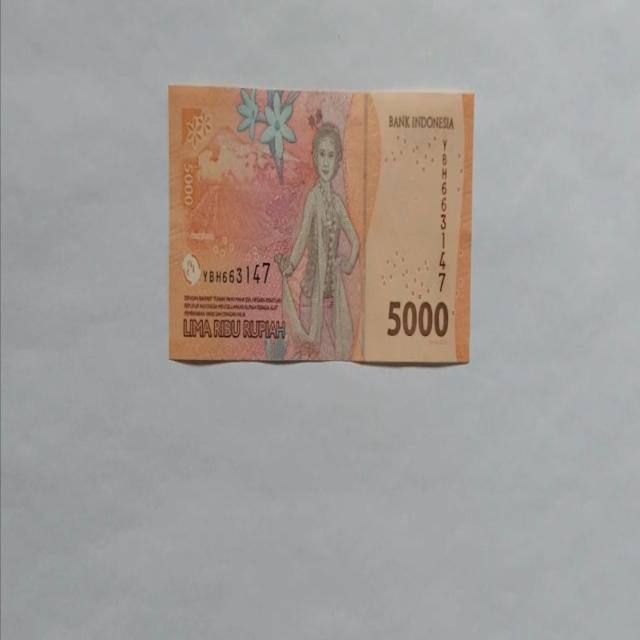lima ribu rupiah: (168, 84, 474, 366), (273, 121, 361, 361)
